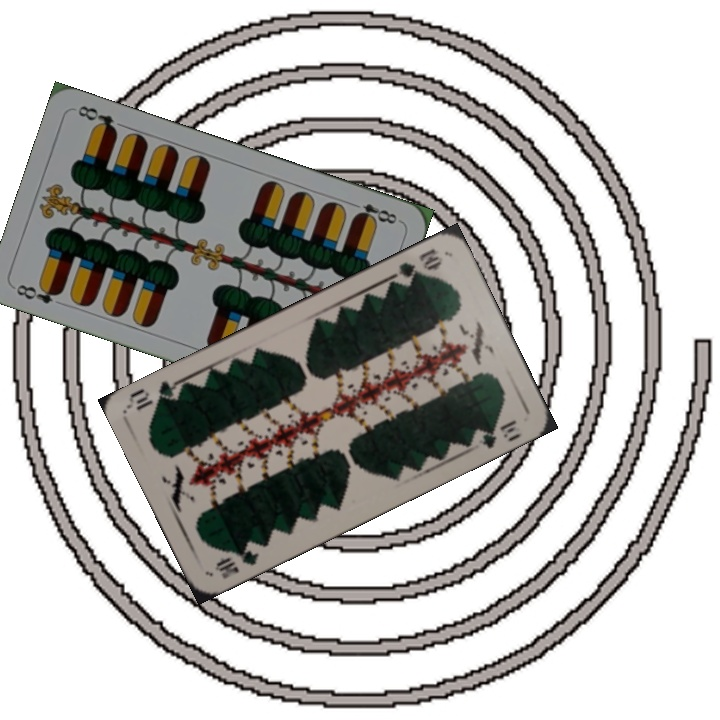E8: (346, 198, 400, 227), (12, 279, 66, 307)
G10: (388, 245, 446, 288), (211, 541, 262, 582)
